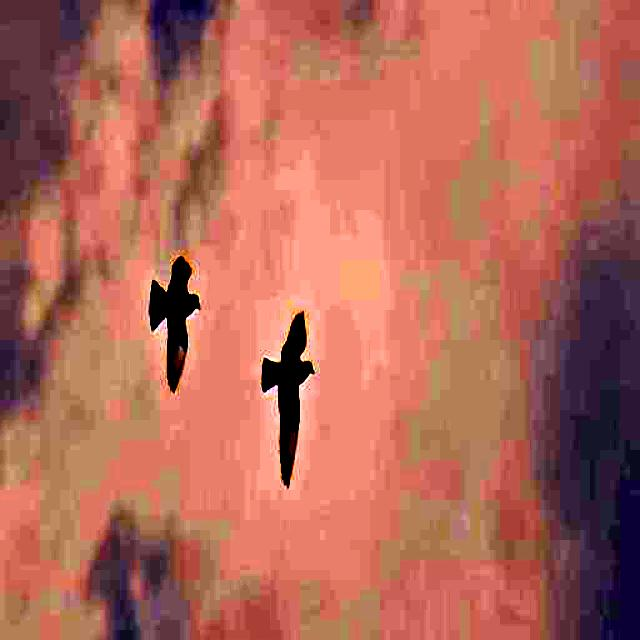airplane: (251, 286, 328, 490), (131, 239, 204, 391)
